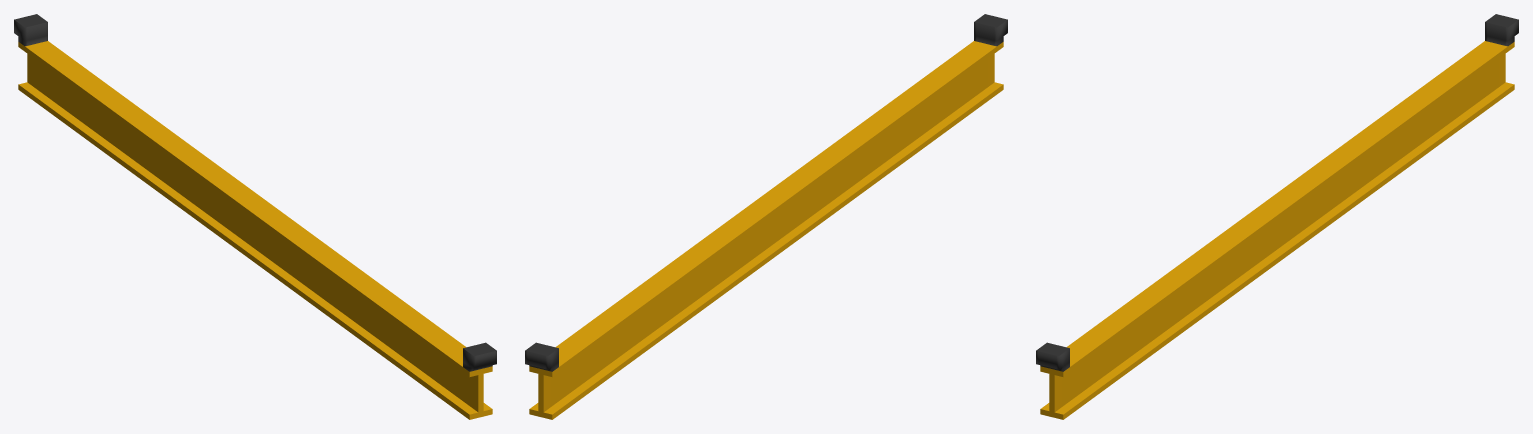
The model's file is Crane_Girder_35ft.fbx.
The picture shows the model from 3 angles, left to right: view 1: azimuth 30°, elevation 25°; view 2: azimuth 150°, elevation 25°; view 3: azimuth 330°, elevation 25°; orthographic projection.
Visible parts, largest first — view 1: Girder_35ft; view 2: Girder_35ft; view 3: Girder_35ft.
Part boxes in pixels (x1,y1,x2,y2): Girder_35ft: (14, 14, 496, 419); Girder_35ft: (525, 14, 1007, 419); Girder_35ft: (1036, 14, 1518, 419).
Size of the model in its own units: 30.48 by 84.85 by 1057.
